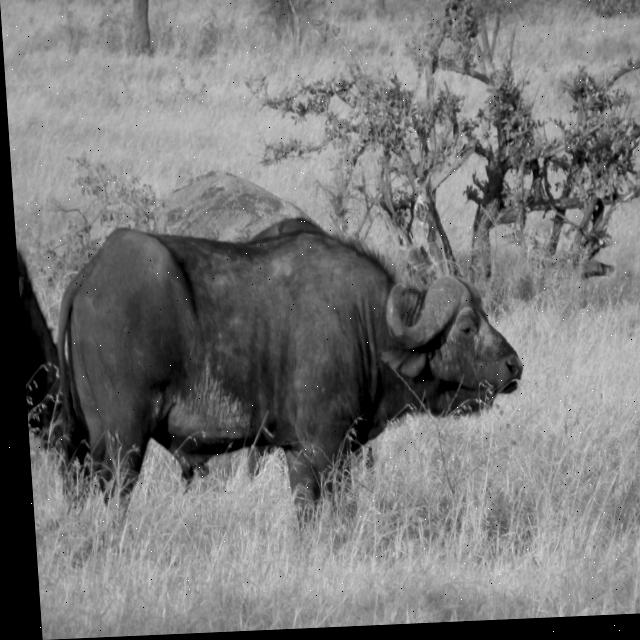Buffalo: (49, 211, 535, 560)
